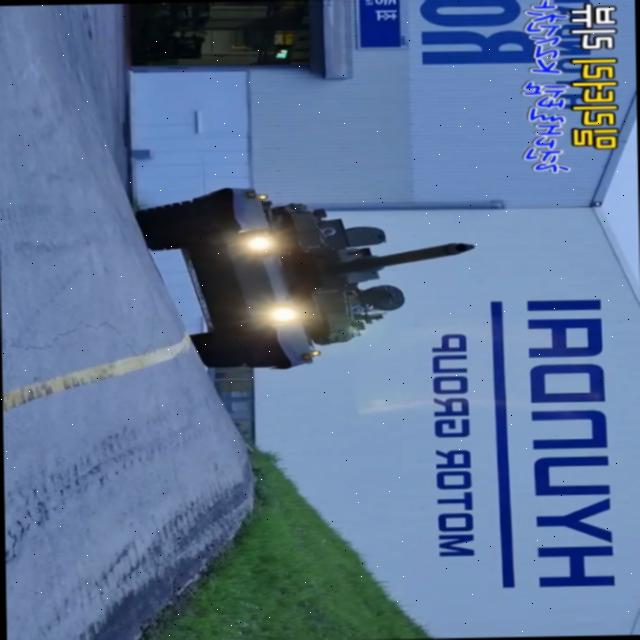korea tank: (132, 182, 478, 373)
